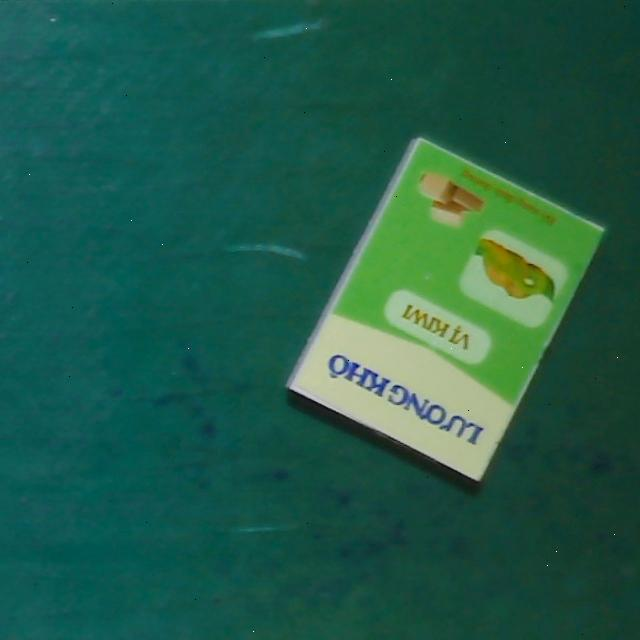kiwi: (285, 133, 606, 485)
